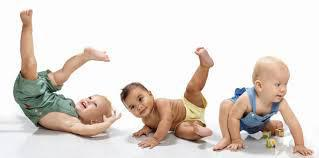child: (6, 9, 119, 138), (212, 55, 314, 158), (115, 45, 215, 150)
